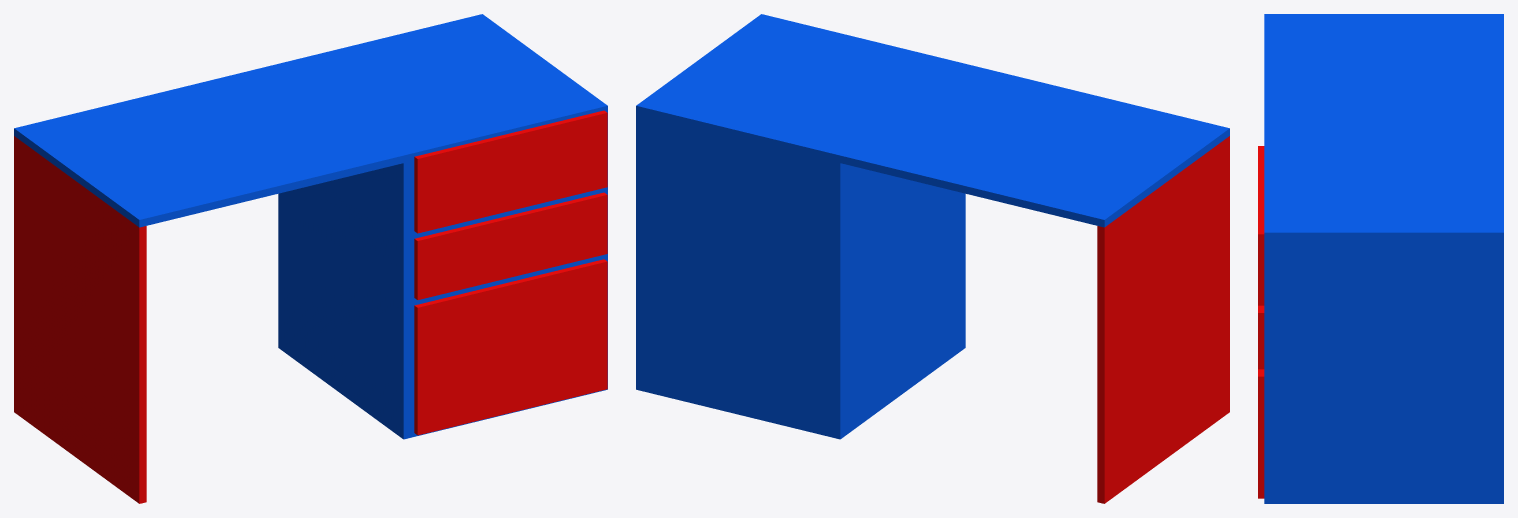
File: hospital_fnt_escritorio2.fbx
The picture shows the model from 3 angles, left to right: view 1: azimuth 30°, elevation 25°; view 2: azimuth 150°, elevation 25°; view 3: azimuth 270°, elevation 25°; orthographic projection. The views are drawn at different scales.
Visible parts, largest first — view 1: hospital_fnt_escritorio2; view 2: hospital_fnt_escritorio2; view 3: hospital_fnt_escritorio2.
Part boxes in pixels (<box>): hospital_fnt_escritorio2: <box>14,14,607,503</box>; hospital_fnt_escritorio2: <box>636,14,1229,503</box>; hospital_fnt_escritorio2: <box>1258,14,1503,503</box>.
Size of the model in its own units: 129 by 75 by 61.56.
